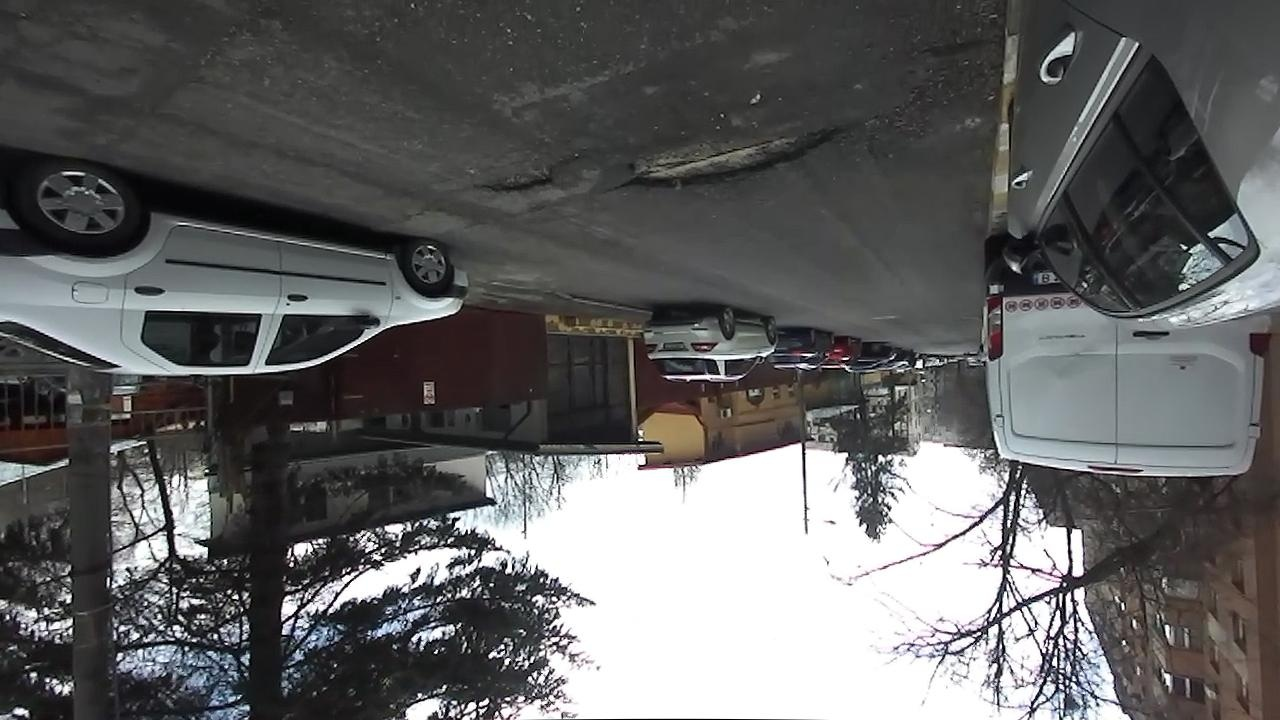pothole: (611, 118, 858, 196), (475, 158, 572, 200)
